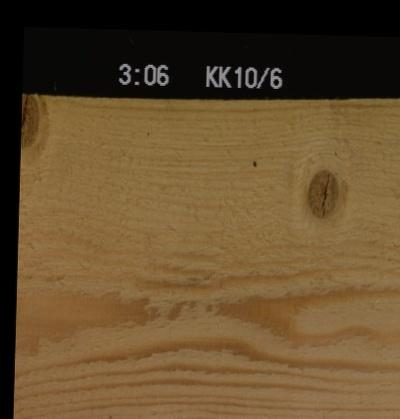edge_knot: (20, 91, 38, 148)
sound_knot: (304, 167, 338, 219)
